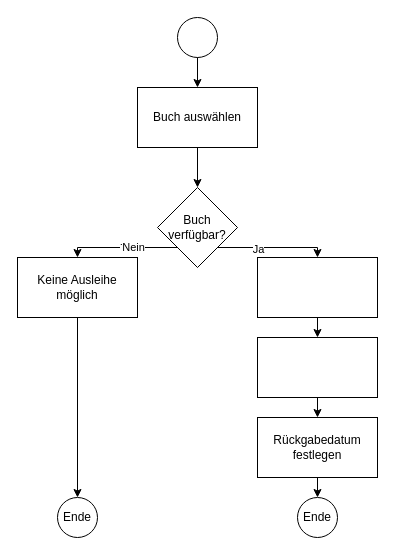
The diagram is 395 pixels wide and 555 high, and some of its shapes have lost their labels. Here are the shapes that lost their labels. From the top down, the centre of each, then its label:
point 197,37: Start
point 317,287: Benutzerkarte vorlegen
point 317,367: Buch ausleihen
